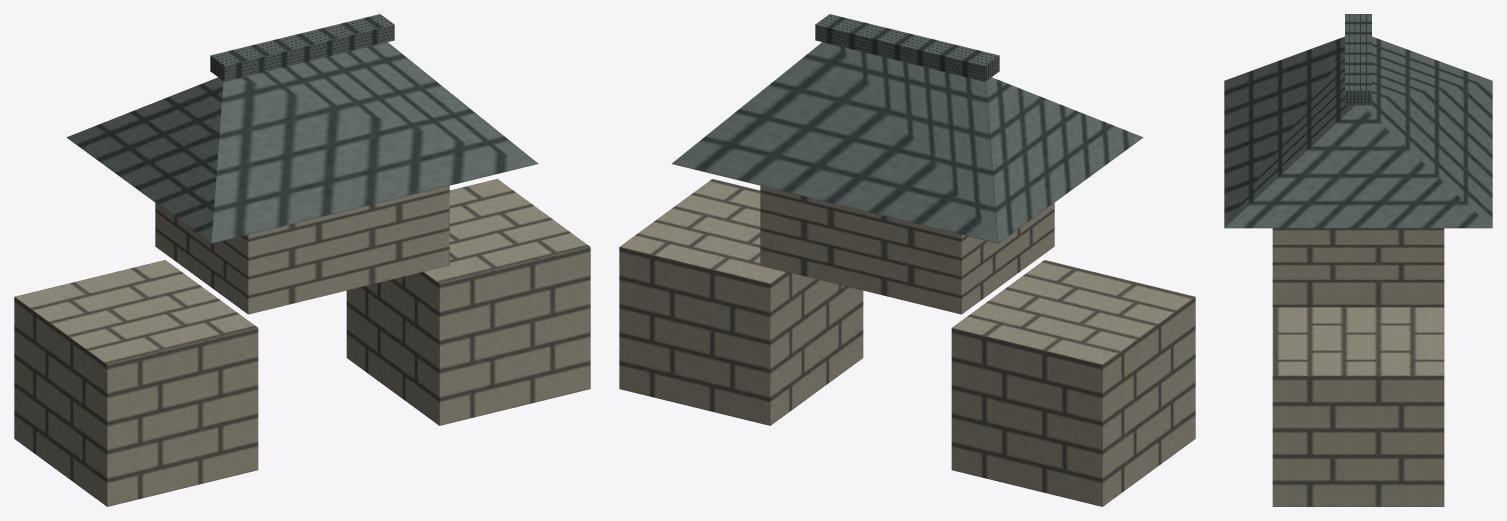
The model's file is gate-lod1.glb.
The picture shows the model from 3 angles, left to right: view 1: azimuth 30°, elevation 25°; view 2: azimuth 150°, elevation 25°; view 3: azimuth 270°, elevation 25°; orthographic projection. The views are drawn at different scales.
Bounding box in the file's own units: 0.96 × 0.71 × 0.5.
Materials: 1 (1 with a texture image).
